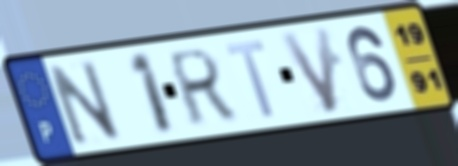1: (127, 49, 181, 137)
6: (345, 24, 400, 105)
N: (42, 57, 125, 149)
R: (166, 45, 239, 131)
T: (221, 37, 278, 121)
V: (276, 23, 341, 117)
